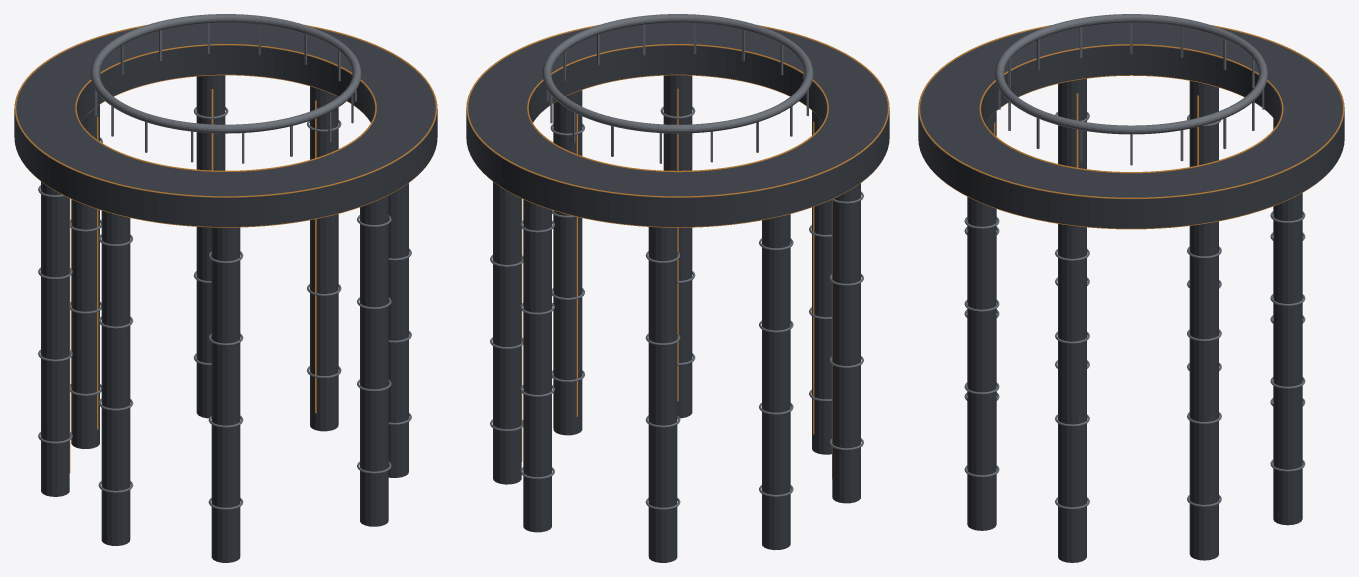
Rendered from 03_architecture_columns_canopy.glb.
3 renders of one model, left to right at view 1: azimuth 30°, elevation 25°; view 2: azimuth 150°, elevation 25°; view 3: azimuth 270°, elevation 25°, orthographic.
Visible parts, largest first — view 1: Columns_Canopy_MAT_Obsidian_Structure_PBR, Columns_Canopy_MAT_Titanium_Machined, Columns_Canopy_MAT_Amber_Energy_Restrained; view 2: Columns_Canopy_MAT_Obsidian_Structure_PBR, Columns_Canopy_MAT_Titanium_Machined, Columns_Canopy_MAT_Amber_Energy_Restrained; view 3: Columns_Canopy_MAT_Obsidian_Structure_PBR, Columns_Canopy_MAT_Titanium_Machined, Columns_Canopy_MAT_Amber_Energy_Restrained.
Boxes of the visible parts, x1,y1,x2,y2 form: Columns_Canopy_MAT_Obsidian_Structure_PBR: [14, 23, 437, 562]; Columns_Canopy_MAT_Titanium_Machined: [38, 14, 411, 509]; Columns_Canopy_MAT_Amber_Energy_Restrained: [14, 25, 437, 472]; Columns_Canopy_MAT_Obsidian_Structure_PBR: [466, 23, 889, 562]; Columns_Canopy_MAT_Titanium_Machined: [490, 14, 863, 509]; Columns_Canopy_MAT_Amber_Energy_Restrained: [466, 25, 889, 478]; Columns_Canopy_MAT_Obsidian_Structure_PBR: [918, 23, 1344, 562]; Columns_Canopy_MAT_Titanium_Machined: [964, 14, 1305, 509]; Columns_Canopy_MAT_Amber_Energy_Restrained: [918, 25, 1344, 229].
Bounding box in the file's own units: 21 × 22.72 × 21.
